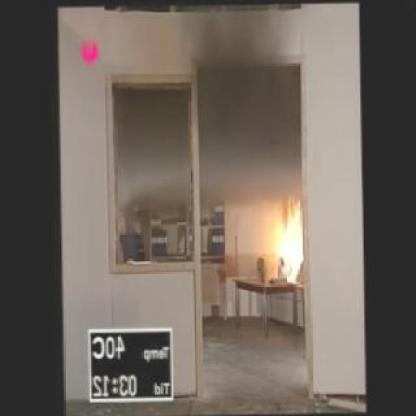Fire: (273, 199, 305, 291)
